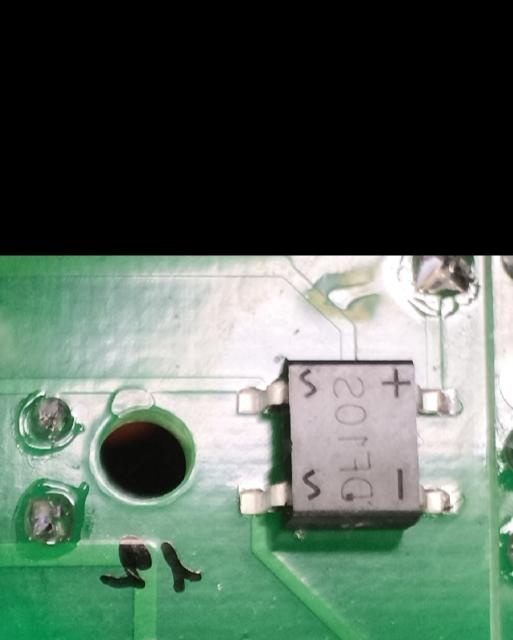ic: (230, 353, 466, 538)
